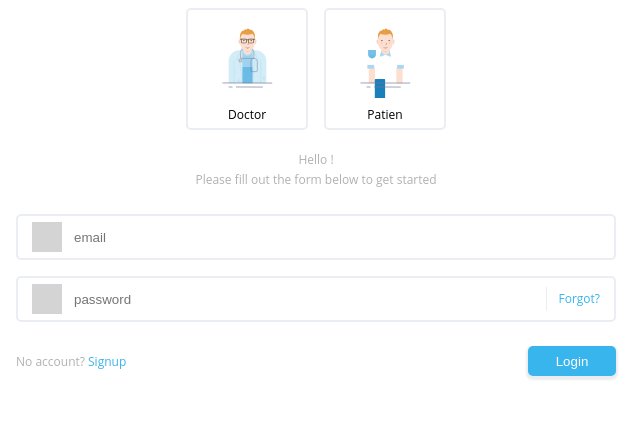
<SignupForm> › account abc12345/xxabc123wer Same string
Click the element showing "Doctor": click(247, 69) [186,8,308,130]
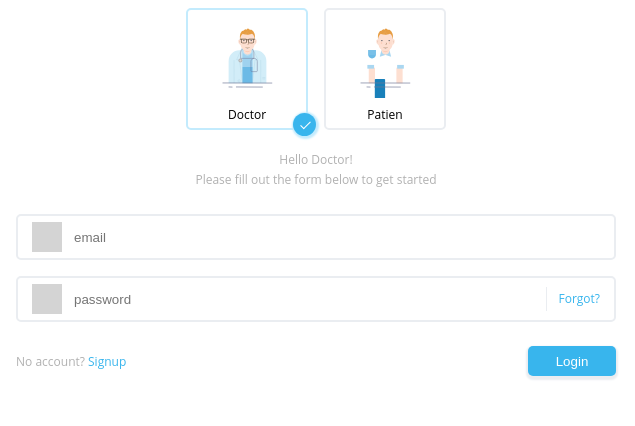
In the field named "email": (316, 237) [16,214,616,260], type "abc12345"
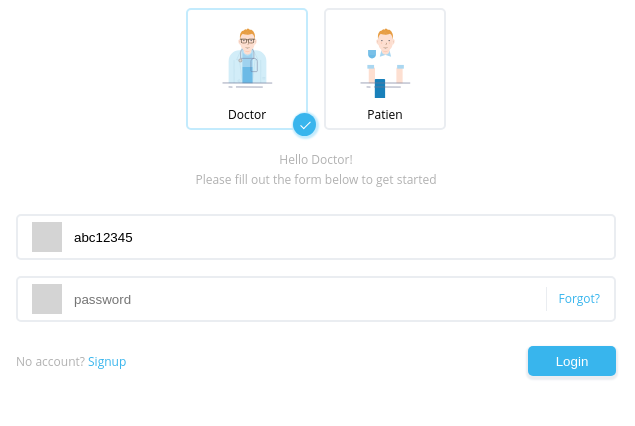
In the password field named "password": (316, 299) [16,276,616,322], type "xxabc123wer"
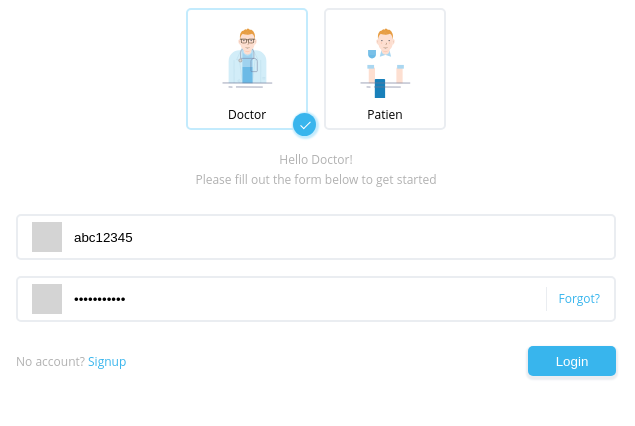
Click the button "Login": click(572, 361) [528,346,616,376]
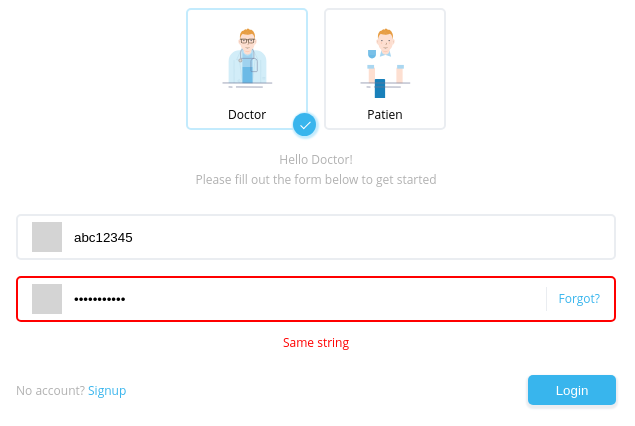
Expected: the text with class "test-password" reads "Same string", [283,334,349,351]
